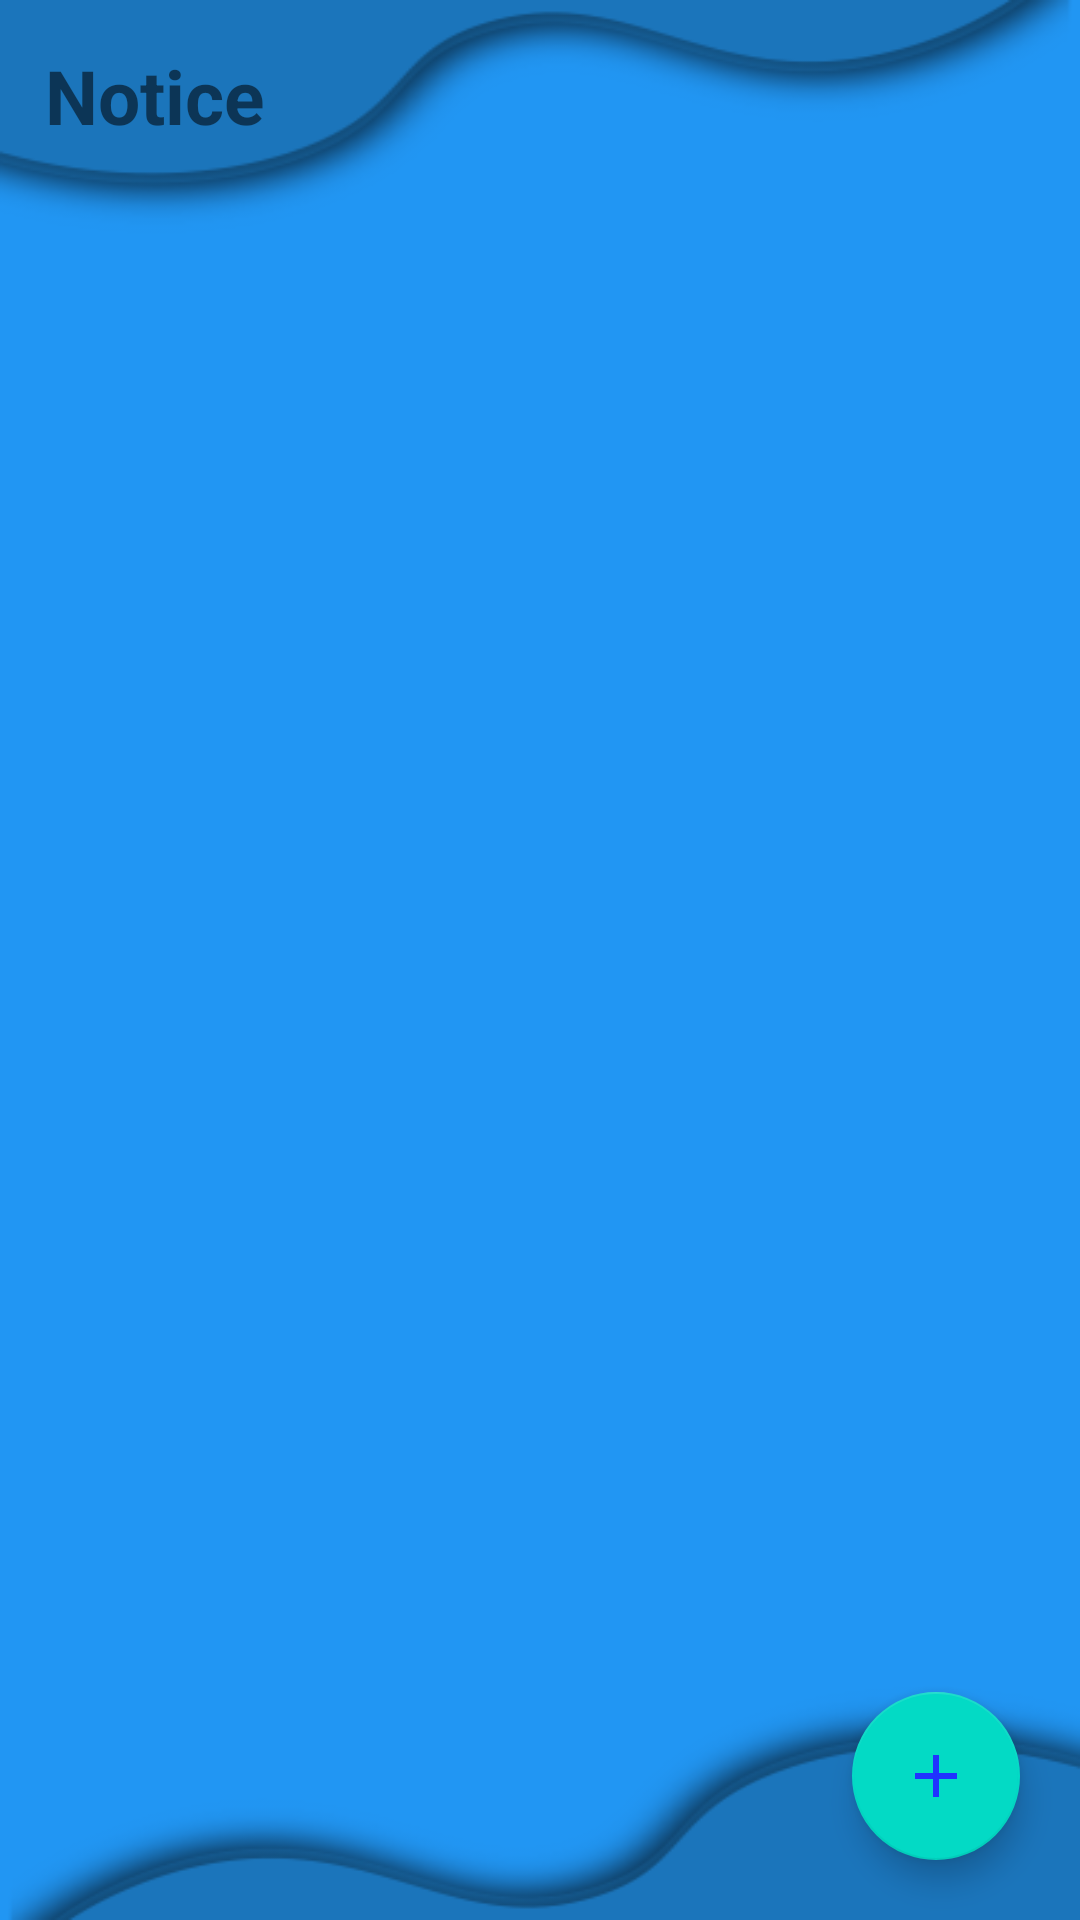

Named icons in this screenshot (1080×1920) and their centers, (x,y):
plus: (936,1776)
